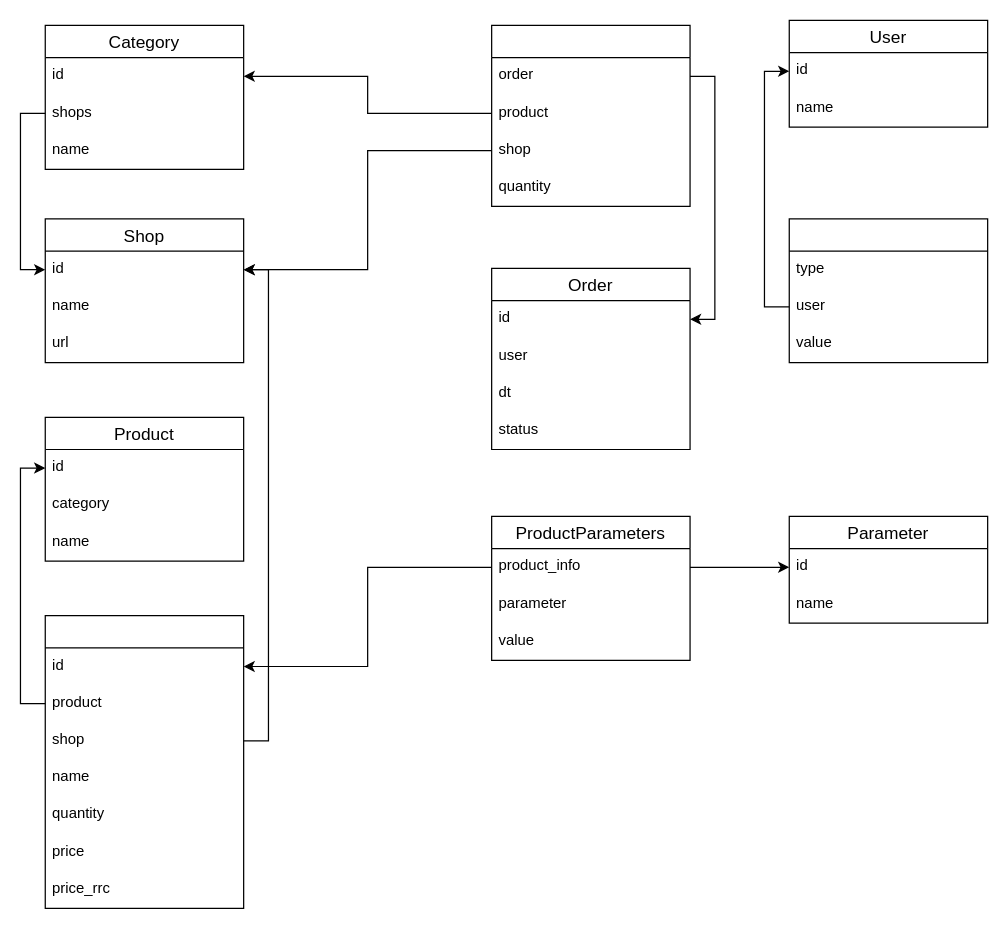
The diagram is 1008 pixels wide and 929 high, and some of its shapes have lost their labels. The box of each missing label's shape, as (x1, y1, x2, y2) in pixels:
Contact: (788, 218, 988, 363)
OrderItem: (490, 24, 690, 206)
ProductInfo: (44, 614, 244, 908)
